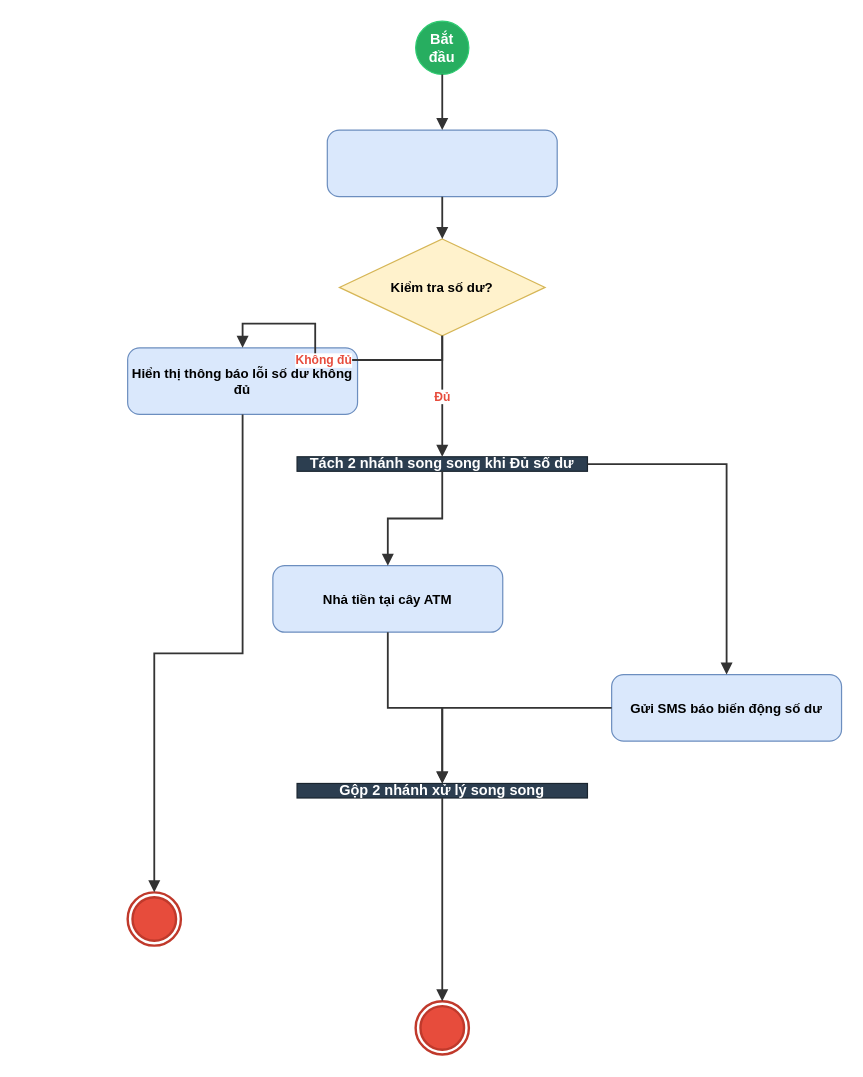
The diagram is 863 pixels wide and 1077 high, and some of its shapes have lost their labels. Each missing label, with the centre of its shape:
Kết thúc (Giao dịch hoàn tất): point 441,1027
Kết thúc (Giao dịch không thành công): point 154,918
Quét mã QR: point 441,163
